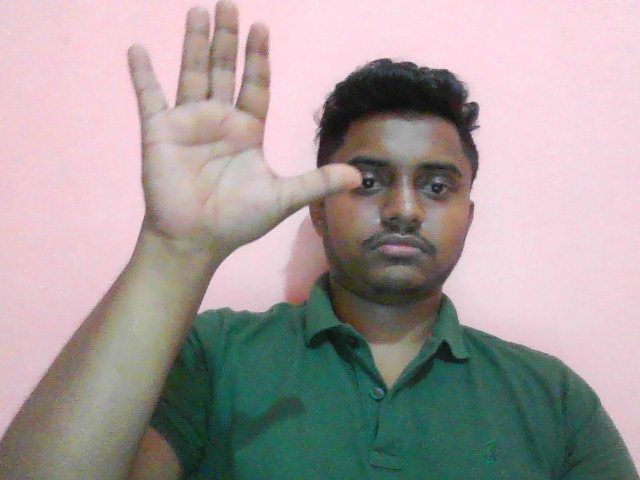Hello: (124, 1, 366, 262)
